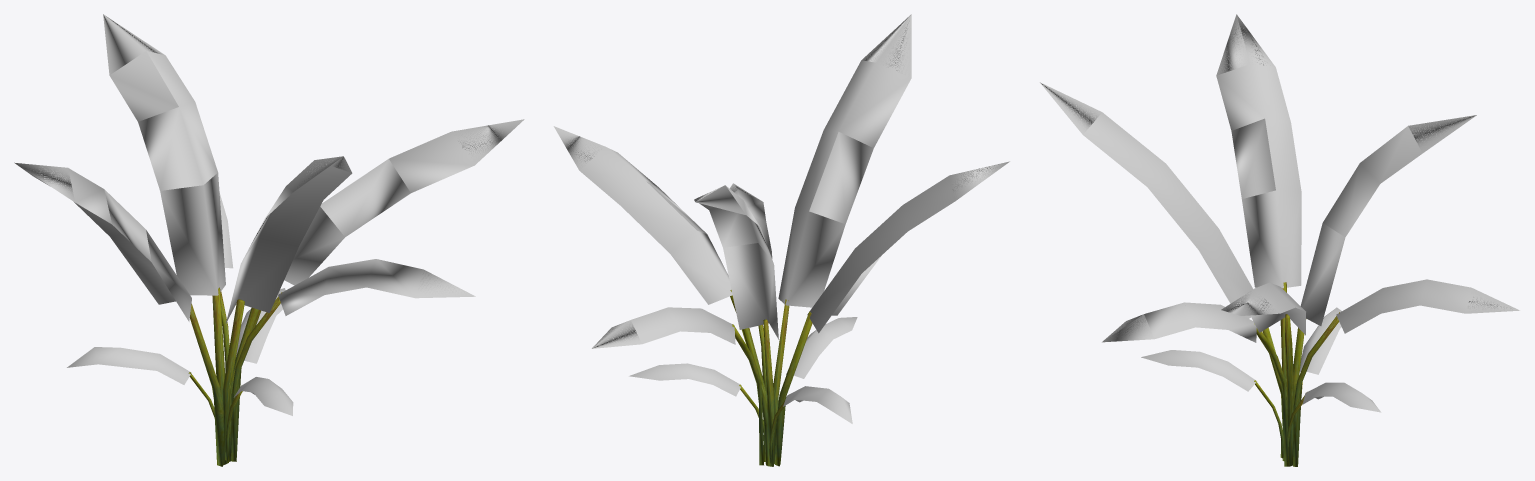
The model's file is plant h.fbx.
3 views of the same model, side by side, from view 1: azimuth 30°, elevation 25°; view 2: azimuth 150°, elevation 25°; view 3: azimuth 270°, elevation 25° (orthographic). The views are drawn at different scales.
Visible parts, largest first — view 1: plant_h_plant_i; view 2: plant_h_plant_i; view 3: plant_h_plant_i.
Part boxes in pixels (bbox=[...]): plant_h_plant_i: bbox=[14, 14, 524, 466]; plant_h_plant_i: bbox=[553, 14, 1009, 466]; plant_h_plant_i: bbox=[1039, 14, 1519, 466].
Bounding box in the file's own units: 111 × 85.53 × 99.99.
